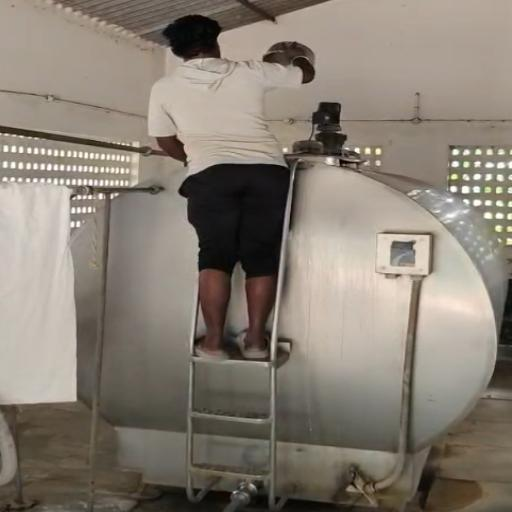silo: (74, 149, 510, 507)
vessel: (263, 40, 316, 83)
